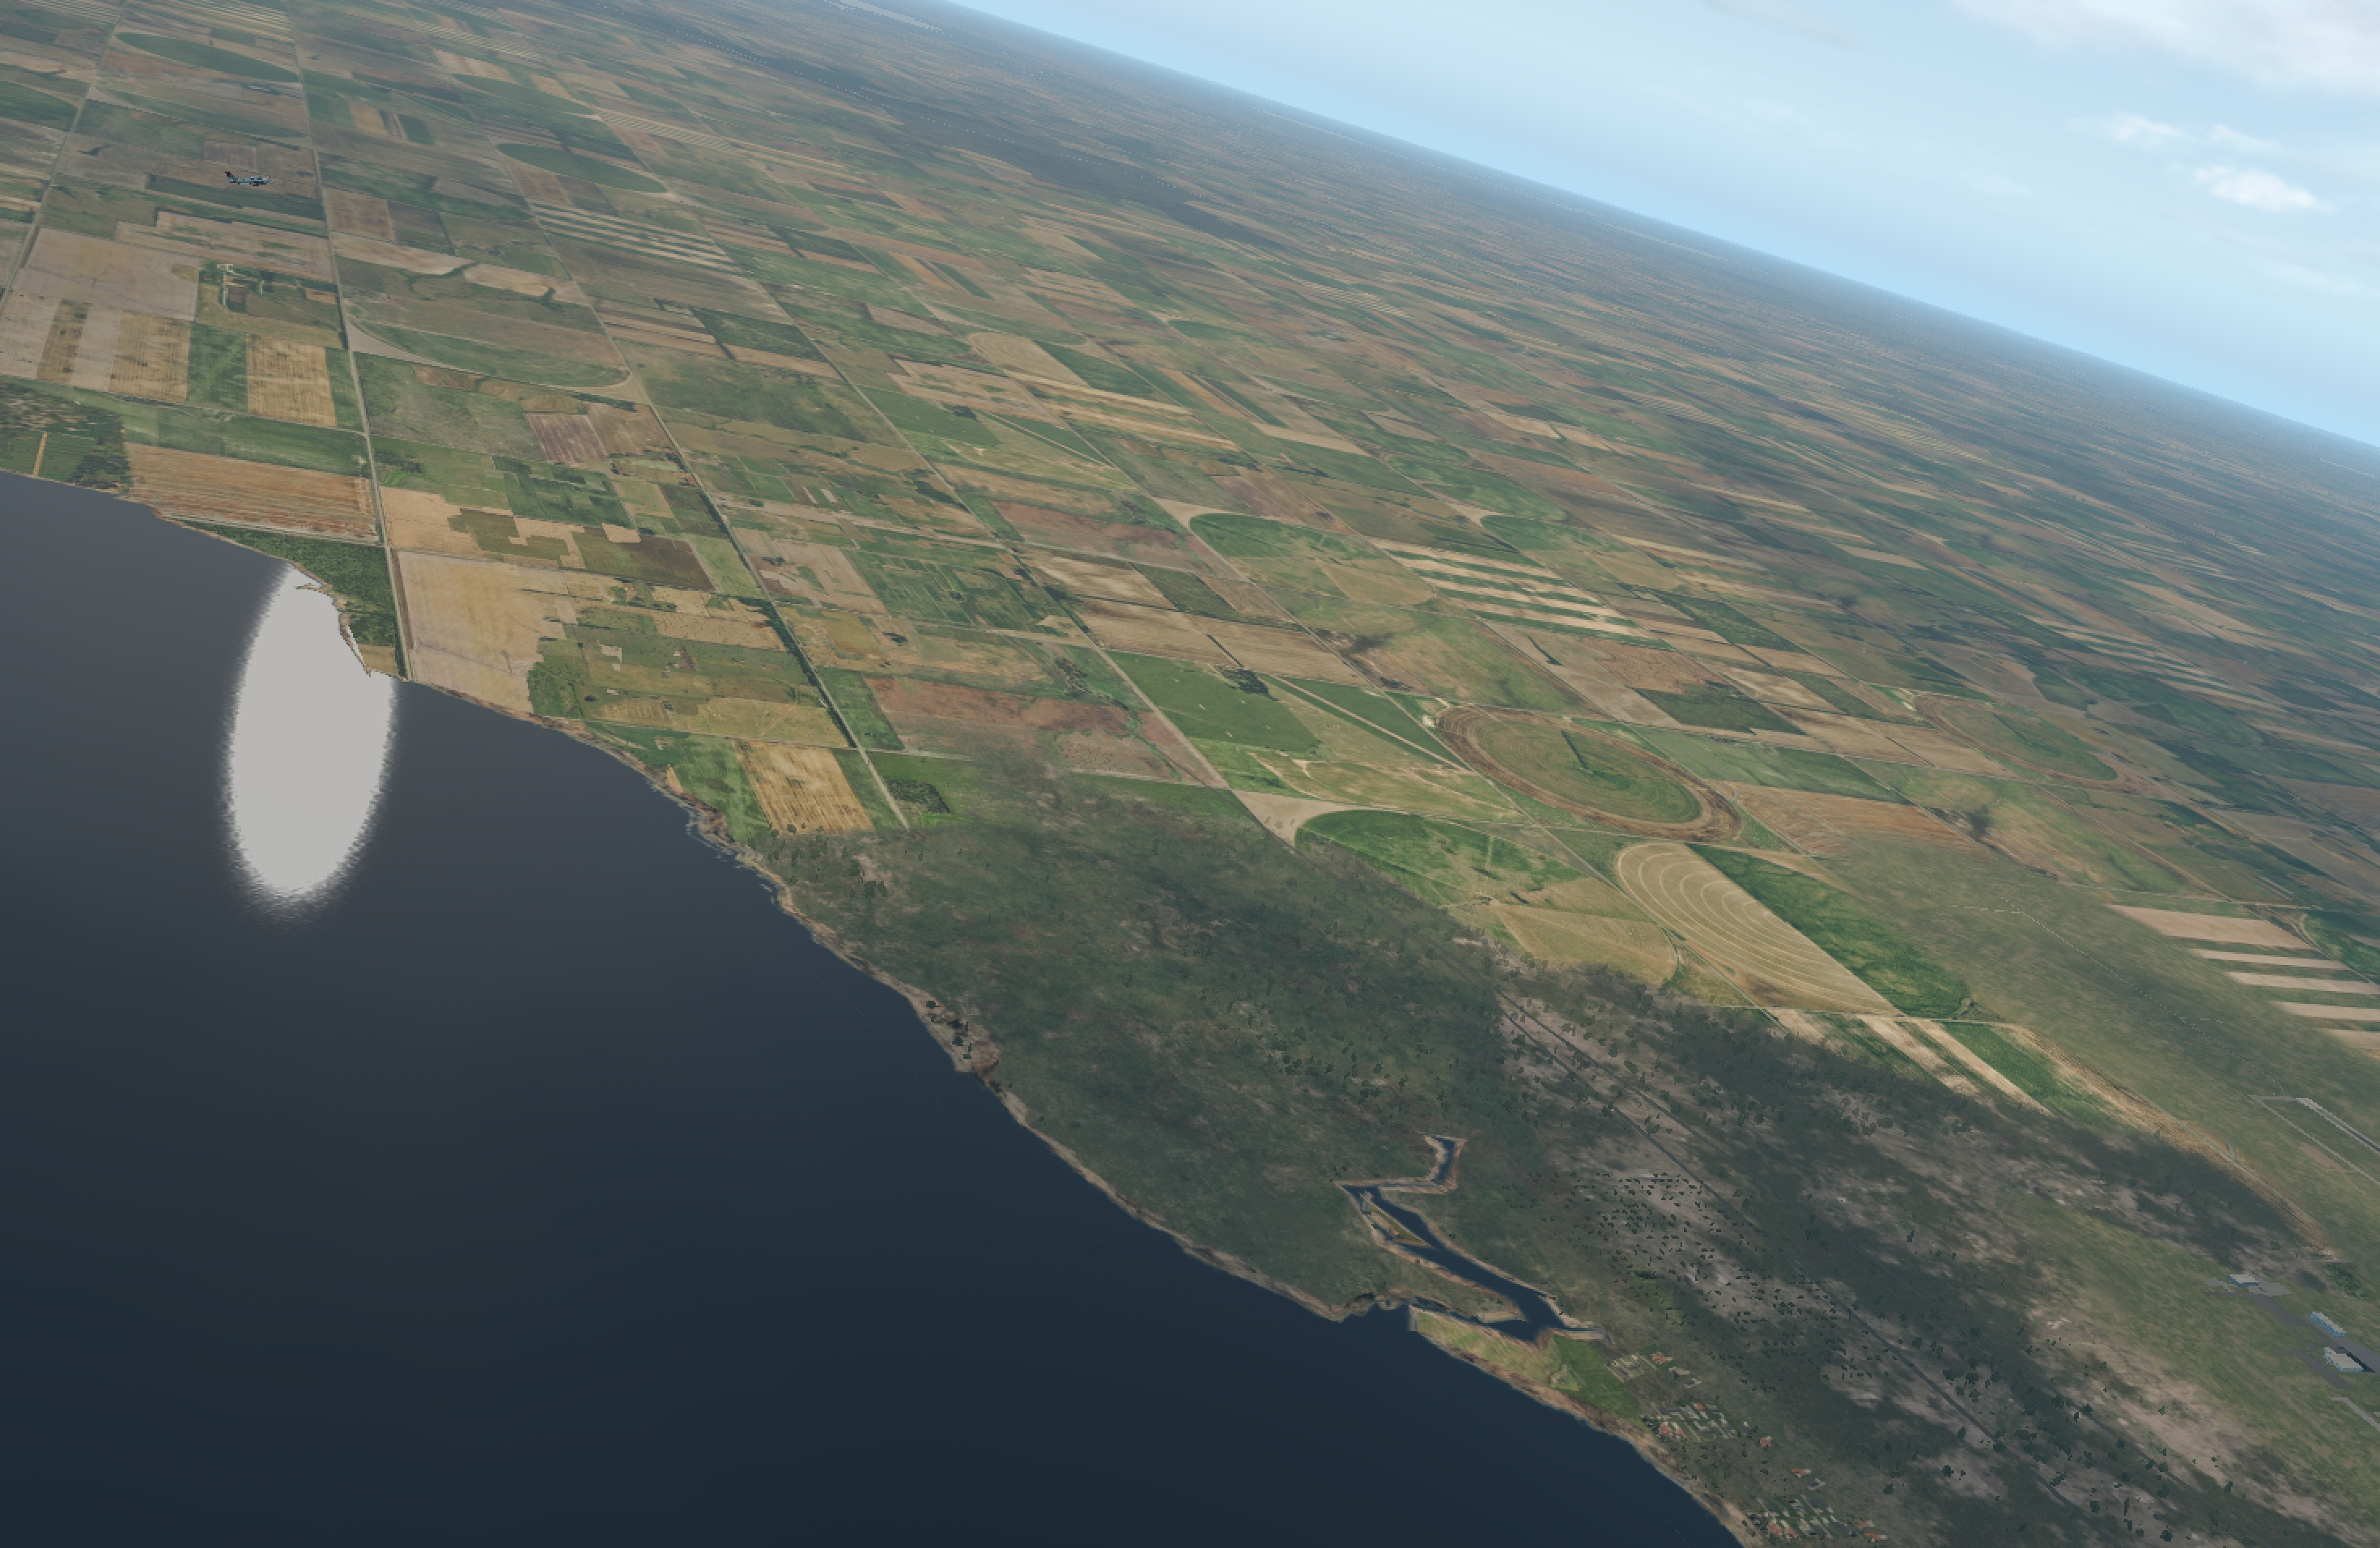aircraft: (229, 174, 288, 194)
